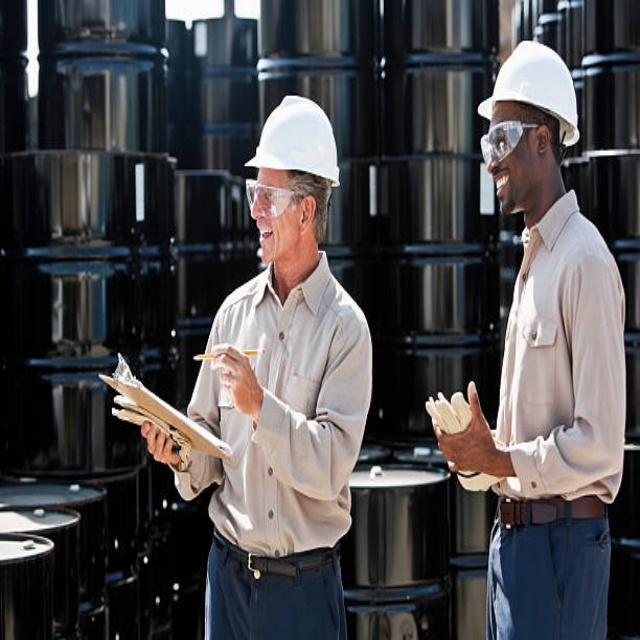Gafas: (480, 120, 547, 164), (244, 179, 305, 218)
Sin_guantes: (428, 378, 499, 475), (208, 342, 261, 414), (139, 417, 185, 467)
Sin_mascara: (490, 168, 519, 212), (254, 220, 280, 262)
